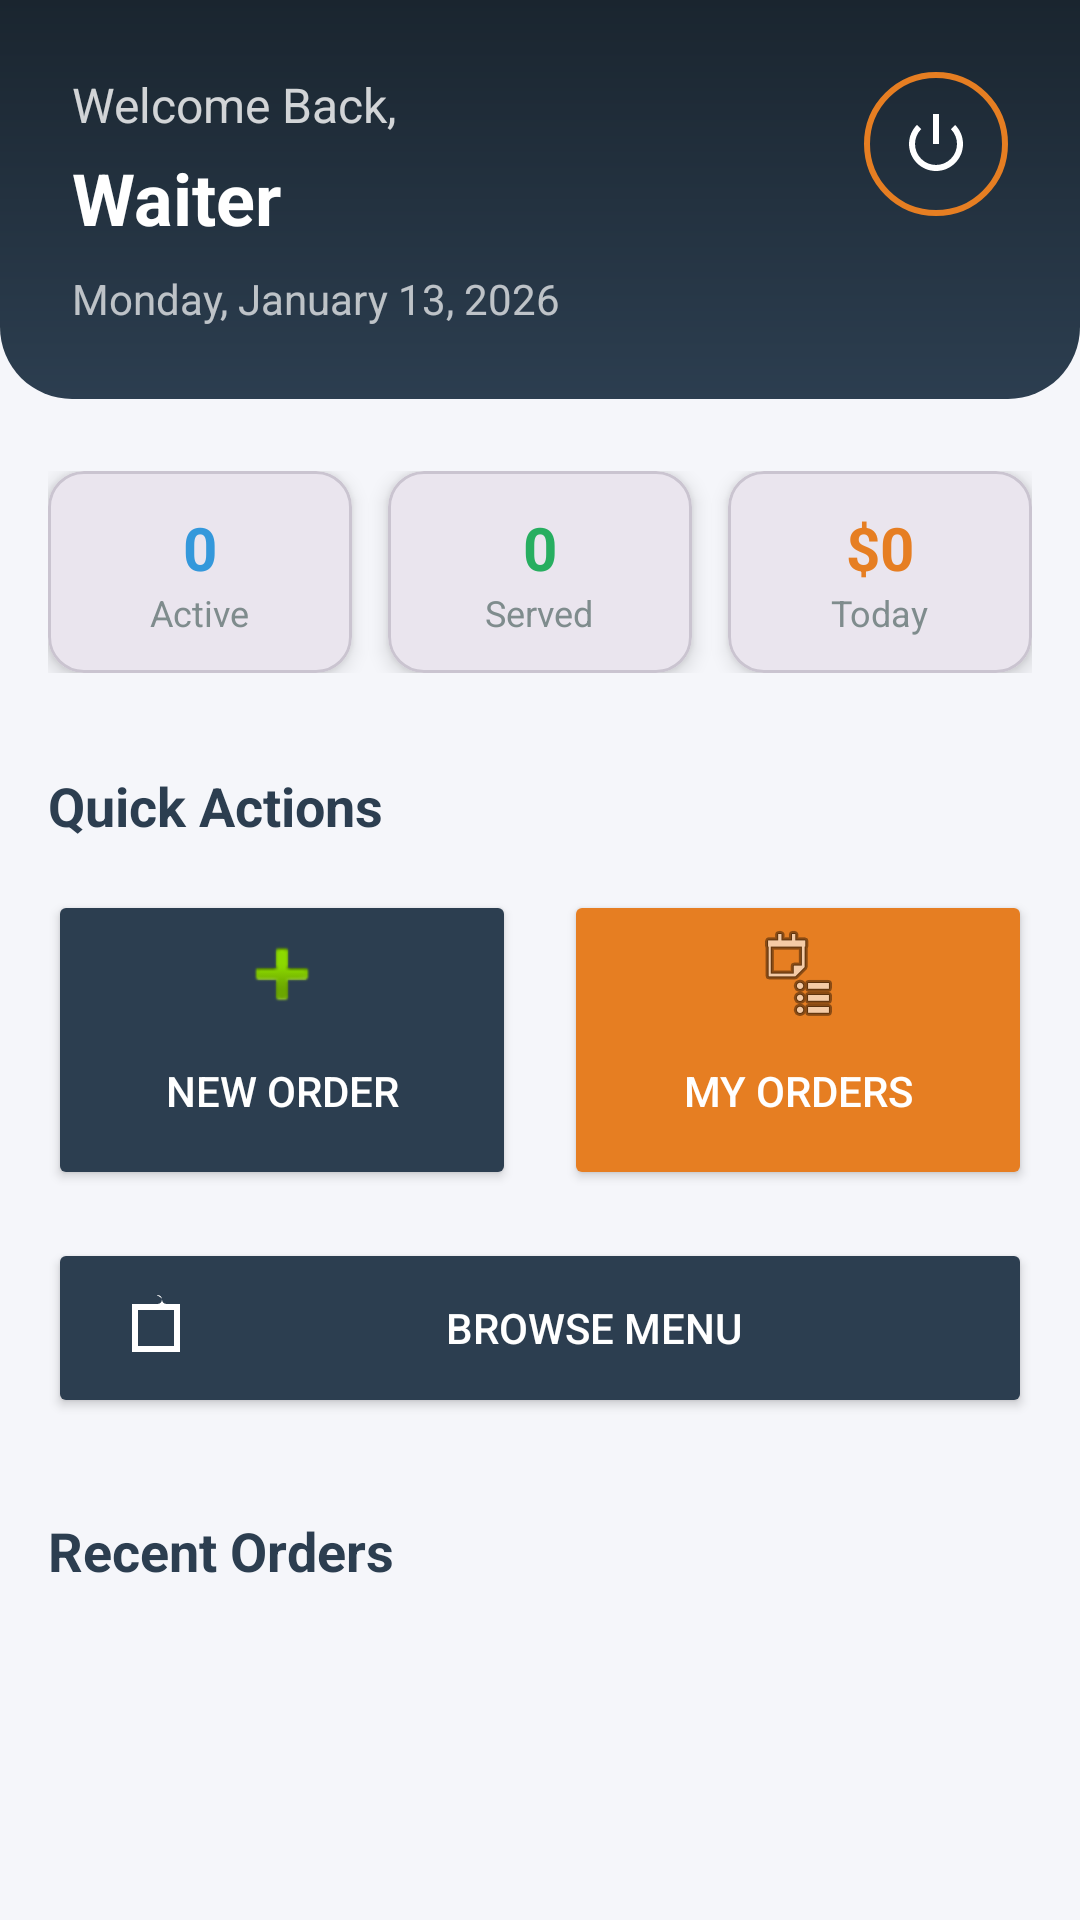

Named icons in this screenshot (1080×1920) and their bounding boxes, bbox(x1, y1, x2, y2):
lock power off: bbox(909, 114, 963, 171)
